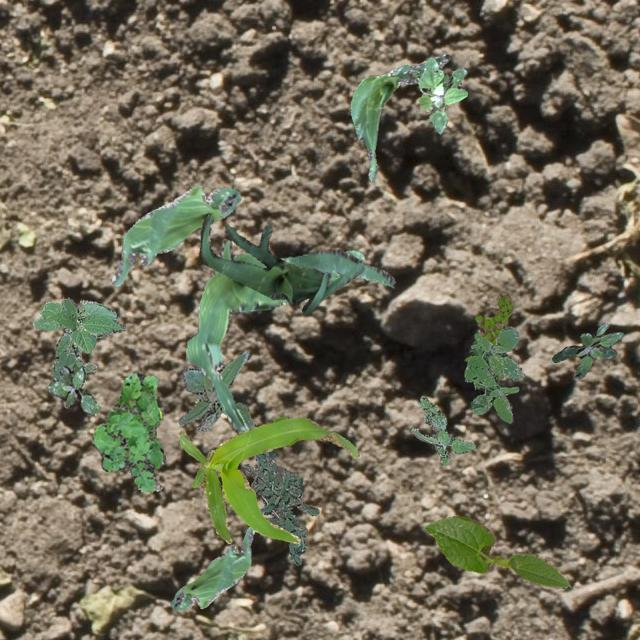crop: (184, 240, 394, 432), (178, 416, 358, 542), (198, 214, 364, 314), (110, 185, 240, 285), (350, 52, 450, 180), (424, 516, 570, 588), (170, 526, 253, 608), (31, 298, 124, 352), (328, 250, 363, 280)
weed: (242, 449, 318, 564), (92, 372, 164, 492), (178, 350, 255, 430), (464, 324, 524, 422), (51, 296, 107, 379), (409, 394, 474, 464), (550, 322, 622, 378), (416, 56, 466, 134), (473, 292, 512, 382), (48, 361, 98, 413)
